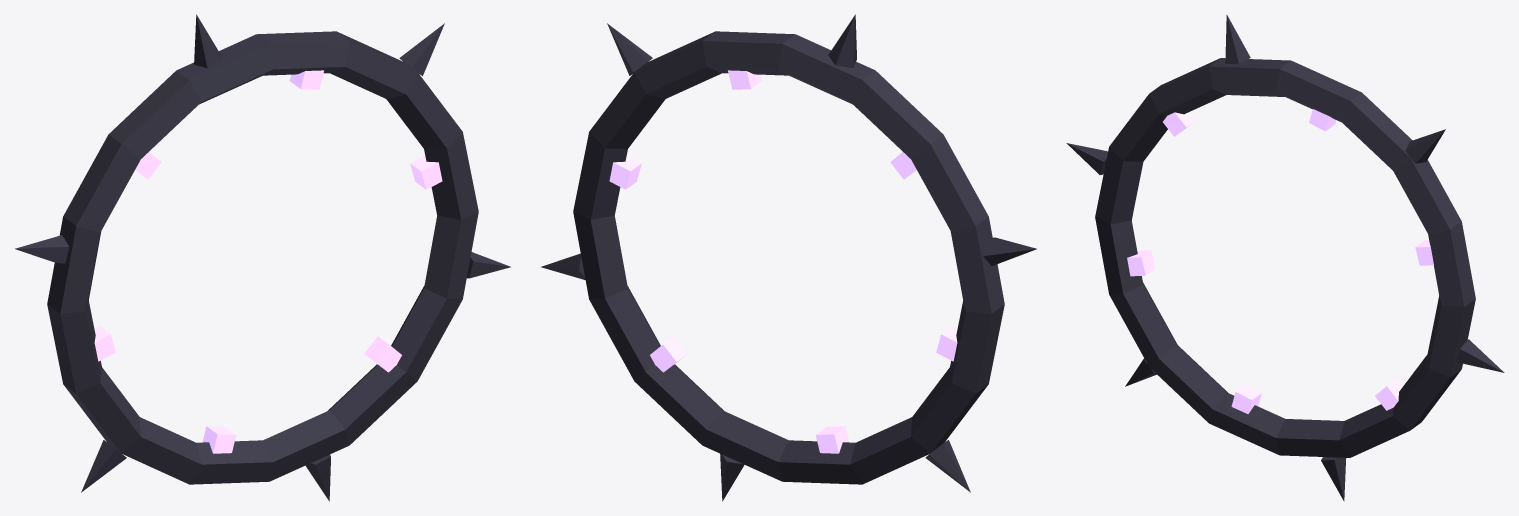
Rendered from dc_hollow_ring.glb.
The picture shows the model from 3 angles, left to right: view 1: azimuth 30°, elevation 25°; view 2: azimuth 150°, elevation 25°; view 3: azimuth 330°, elevation 25°; orthographic projection. The views are drawn at different scales.
Parts seen in each view (by area): view 1: part.dc_hollow_ring; view 2: part.dc_hollow_ring; view 3: part.dc_hollow_ring.
Boxes of the visible parts, x1=… form: part.dc_hollow_ring: x1=15, y1=14, x2=510, y2=501; part.dc_hollow_ring: x1=541, y1=14, x2=1036, y2=501; part.dc_hollow_ring: x1=1066, y1=14, x2=1504, y2=501.
Size of the model in its own units: 2.57 by 2.57 by 0.1901.
